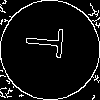T: (25, 25, 73, 60)
